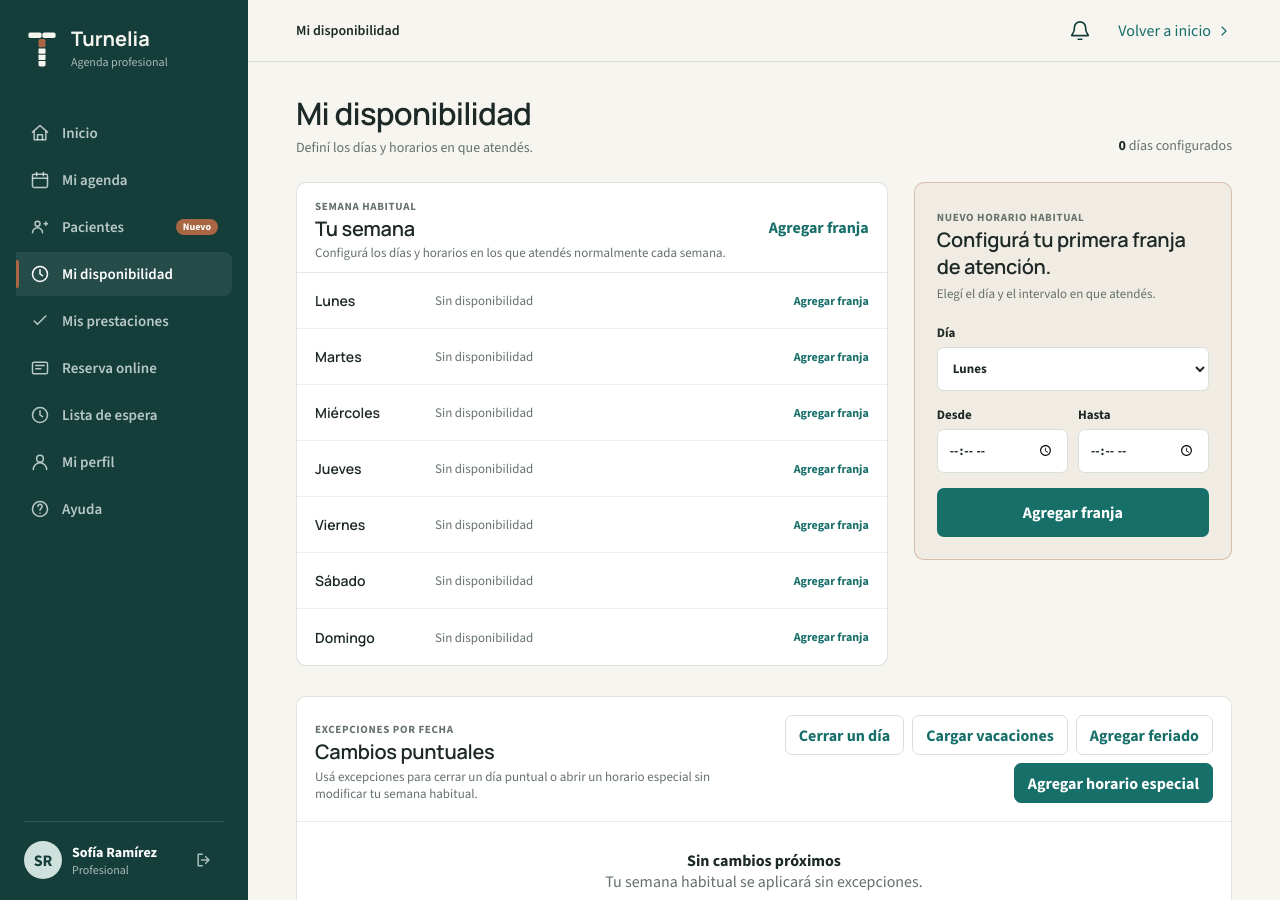
Scenario: mi disponibilidad profesional Signature › valida que la hora final sea posterior y enfoca el campo
Expected: the heading "Tu semana" is shown, left=315, top=215, right=415, bottom=242
Type "12:00" into the time field labelled "Desde" at coordinates (1002, 451), box left=937, top=429, right=1068, bottom=473
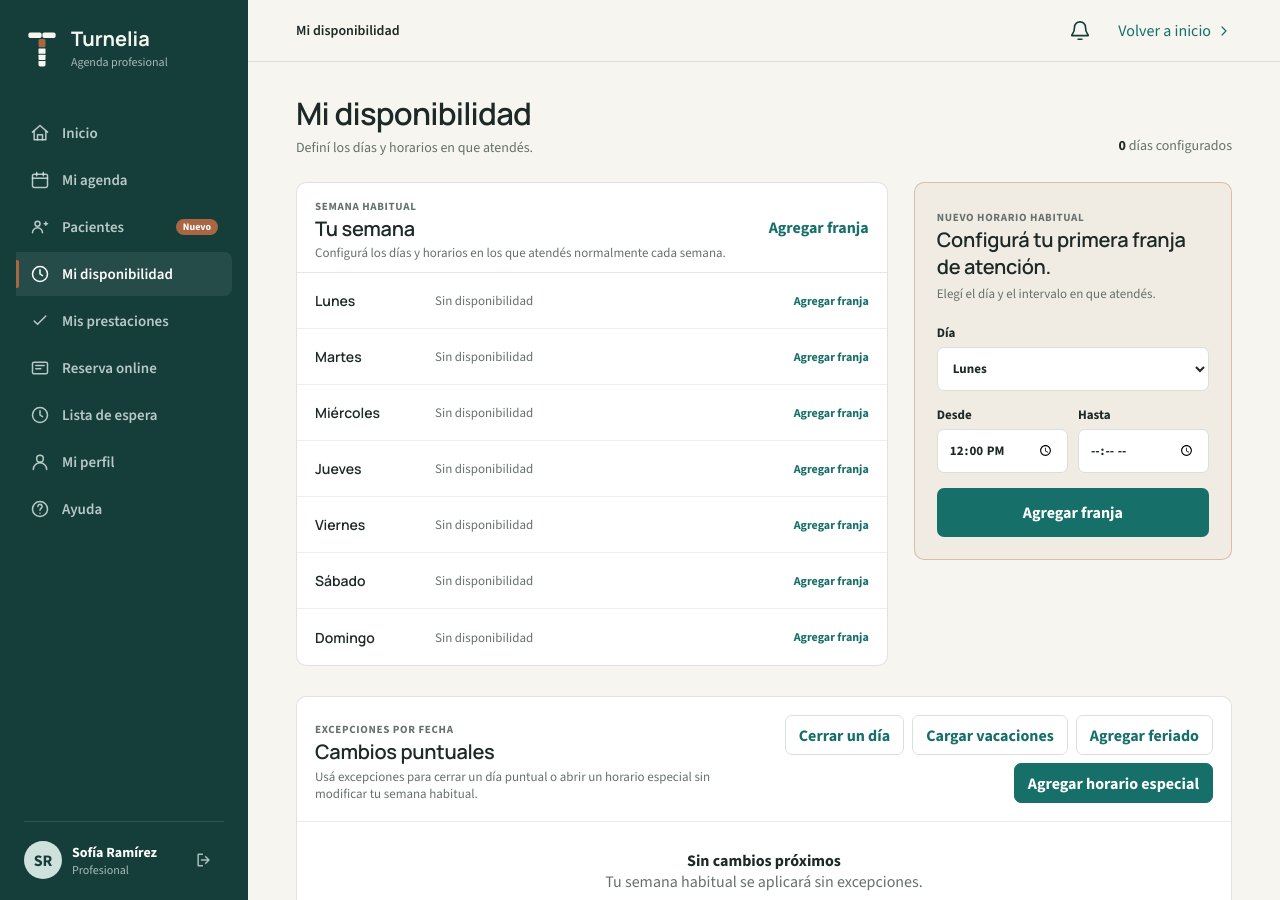
Type "08:00" into the time field labelled "Hasta" at coordinates (1143, 451), box left=1078, top=429, right=1209, bottom=473
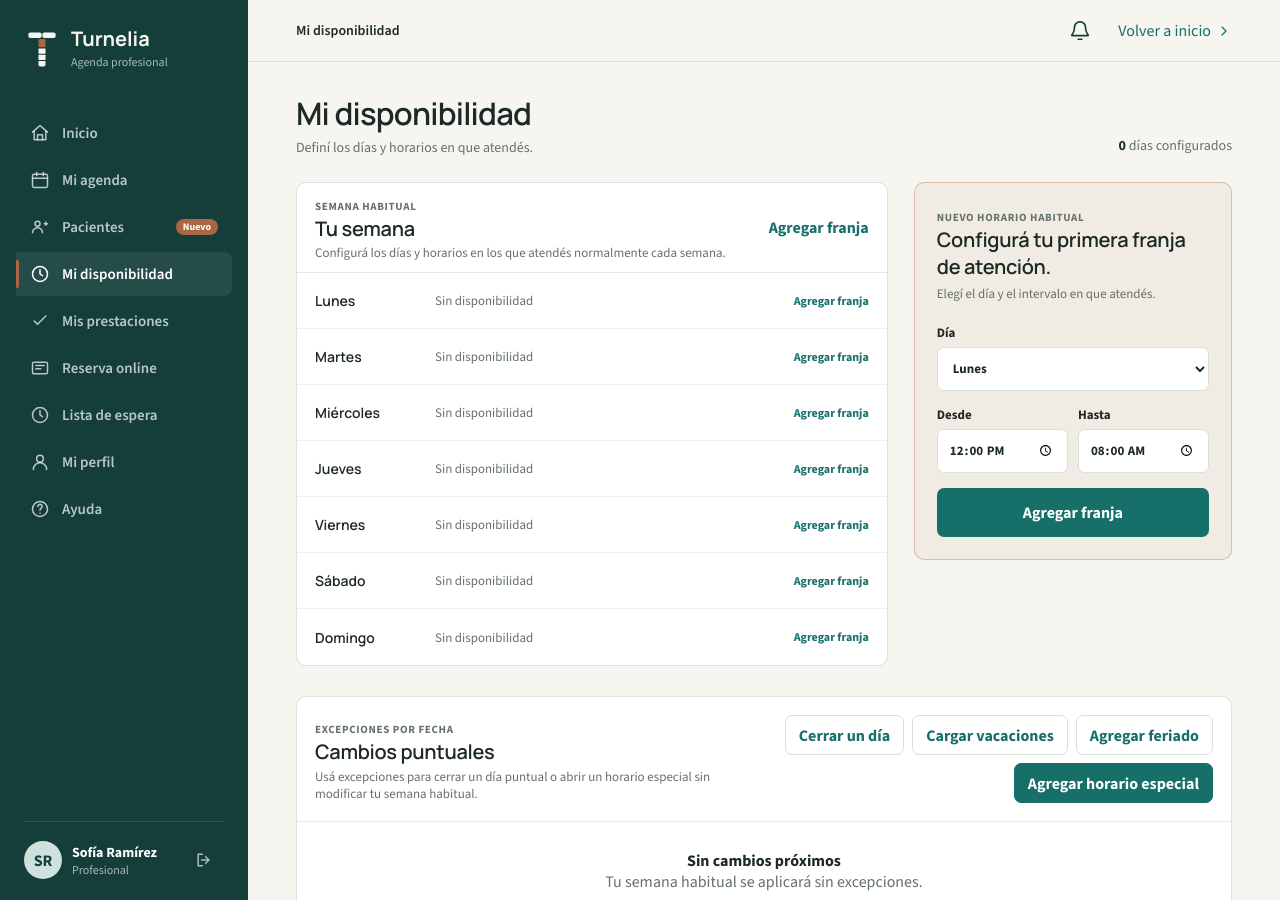
Click the button "Agregar franja" below "Desde" at coordinates (1073, 512), box left=937, top=488, right=1209, bottom=537
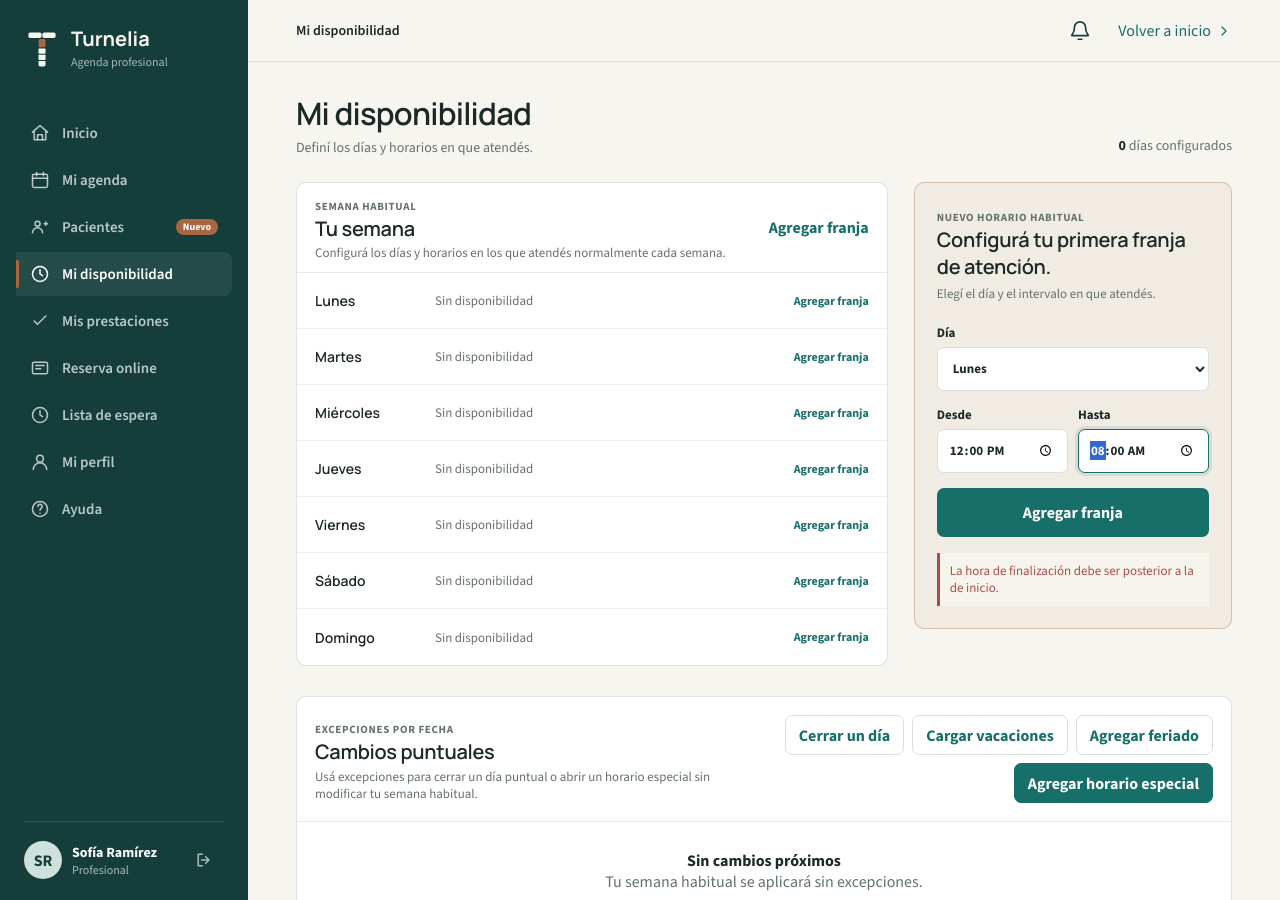
Result: the message shows "La hora de finalización debe ser posterior" at left=950, top=562, right=1194, bottom=596
